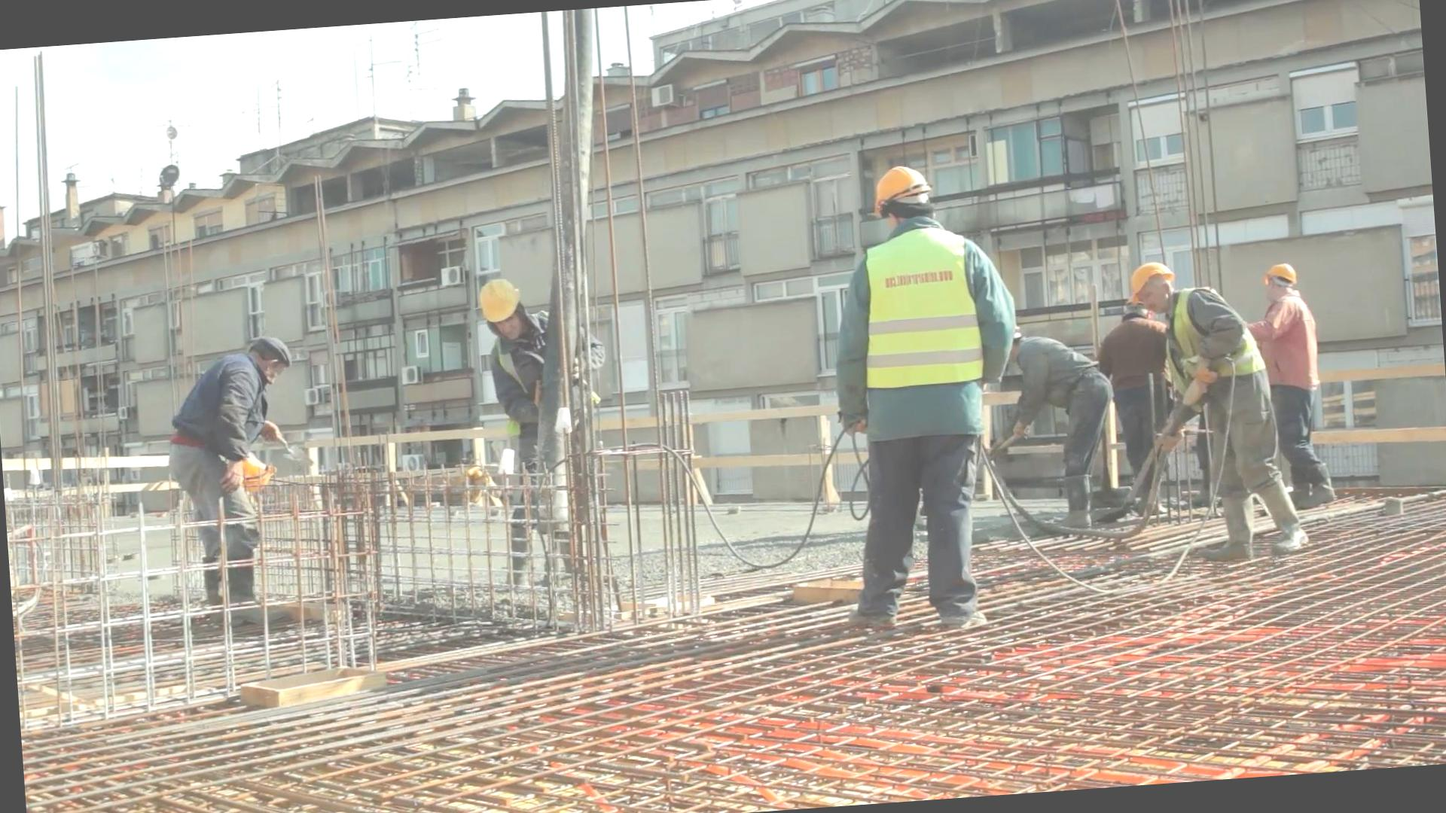helmet: (861, 155, 940, 224)
person: (807, 146, 1032, 644), (1133, 253, 1286, 557), (151, 333, 307, 601)
